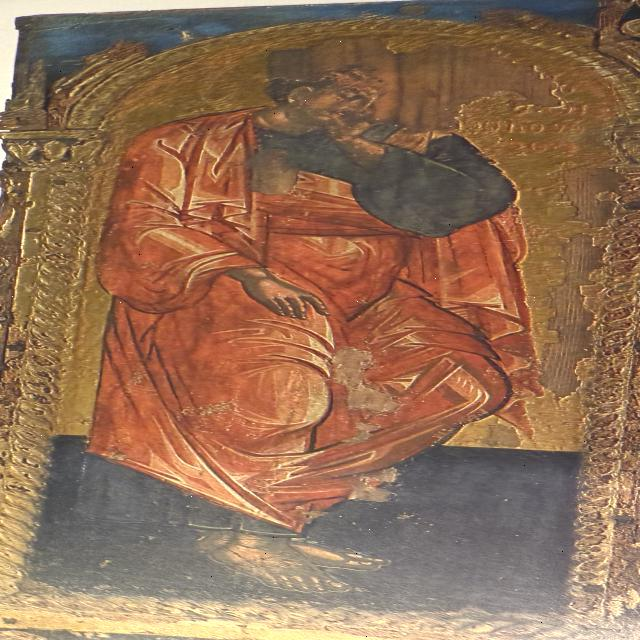saint: (26, 24, 598, 603)
